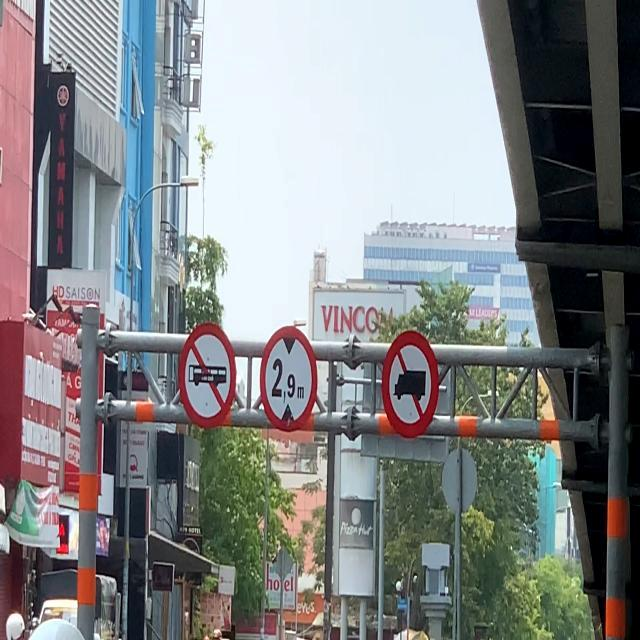Cam xe tai: (382, 328, 442, 439)
Han che chieu cao: (258, 322, 320, 439)
